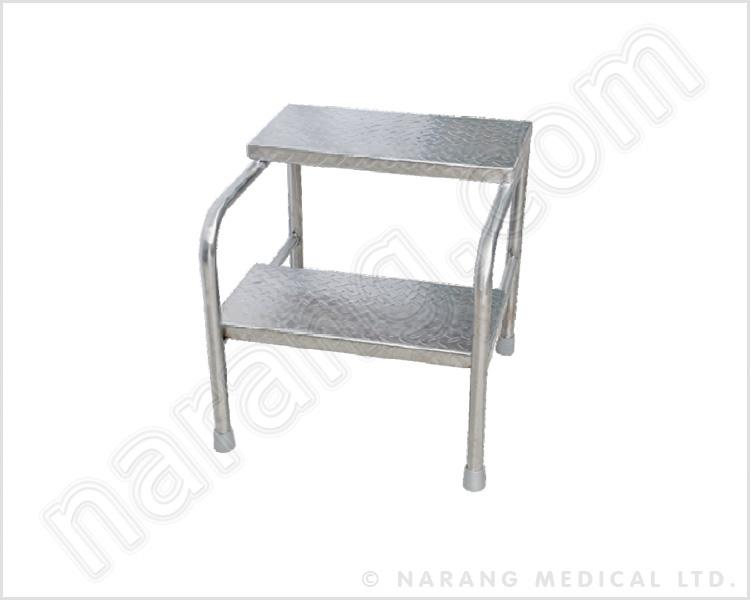stool: (191, 96, 539, 500)
